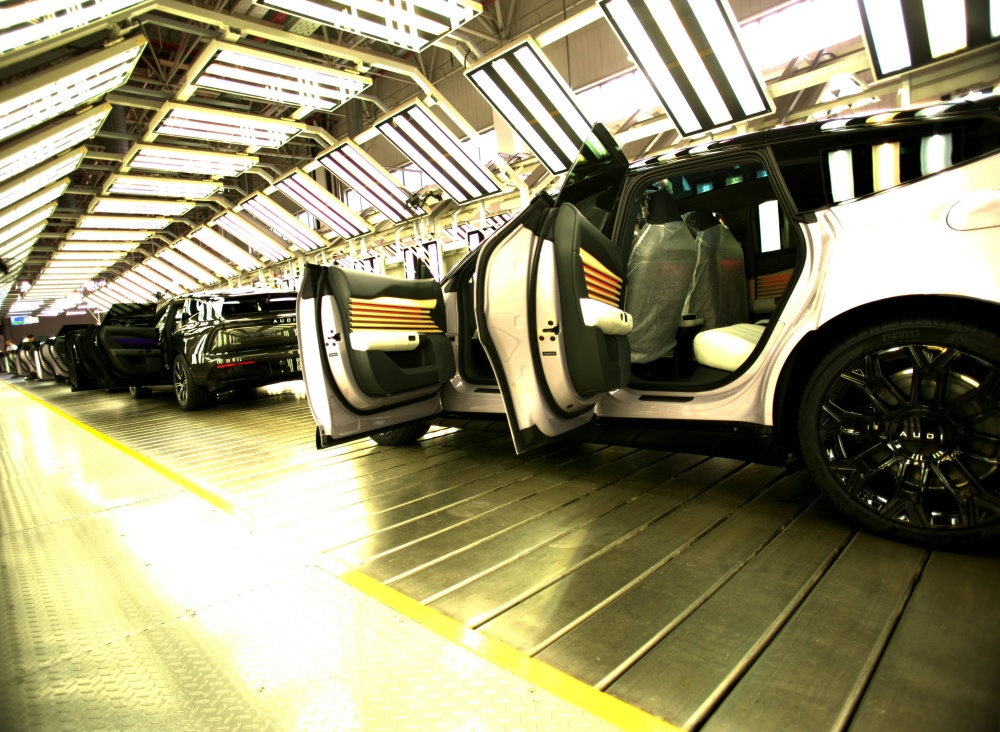armrest_color: (578, 295, 635, 337), (348, 329, 425, 355)
panel_color: (345, 293, 444, 333), (577, 244, 625, 309)
